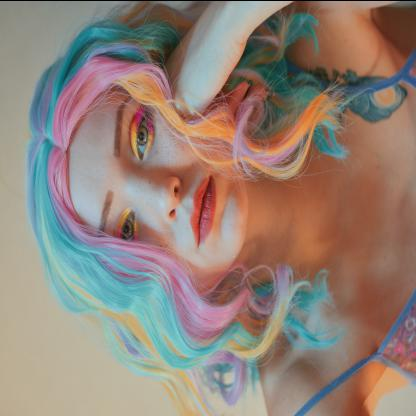Eye: (130, 105, 155, 163), (116, 206, 140, 241)
Mouth: (187, 171, 218, 250)
Nose: (129, 168, 184, 223)
